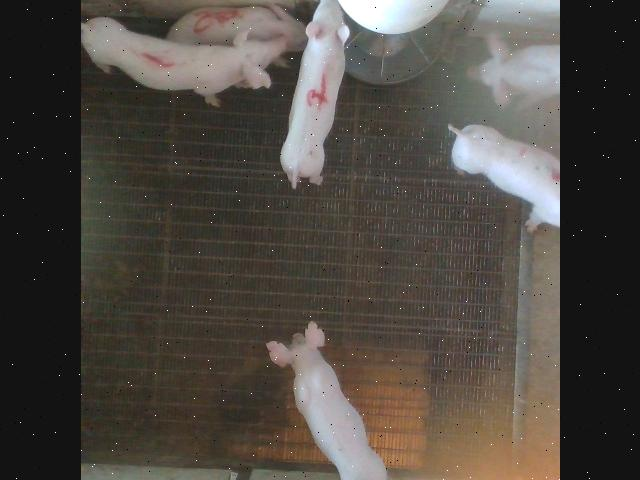pig-1: (81, 18, 284, 105)
pig-4: (279, 0, 348, 189), (448, 125, 559, 232)
pig-5: (165, 5, 306, 51)
